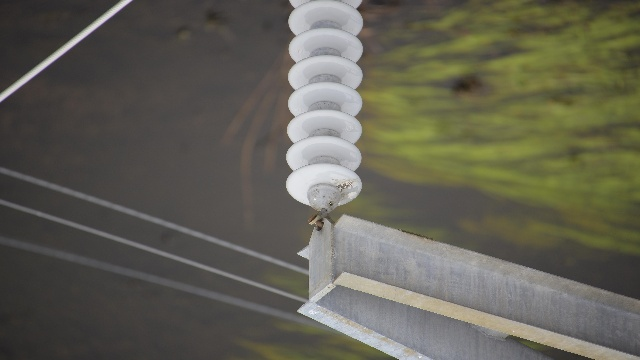insulator_unspecified: (286, 0, 365, 207)
pollution_flashover_local: (333, 174, 360, 202)
